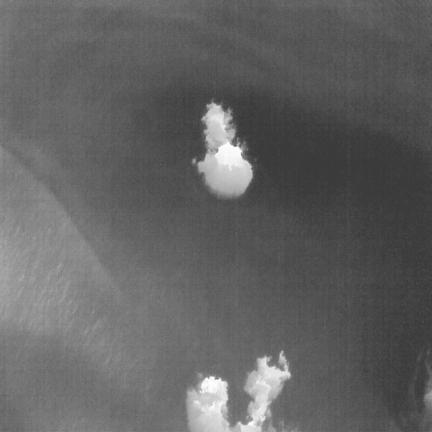flukeprints: (186, 351, 290, 431), (192, 102, 252, 198), (215, 142, 246, 170)
